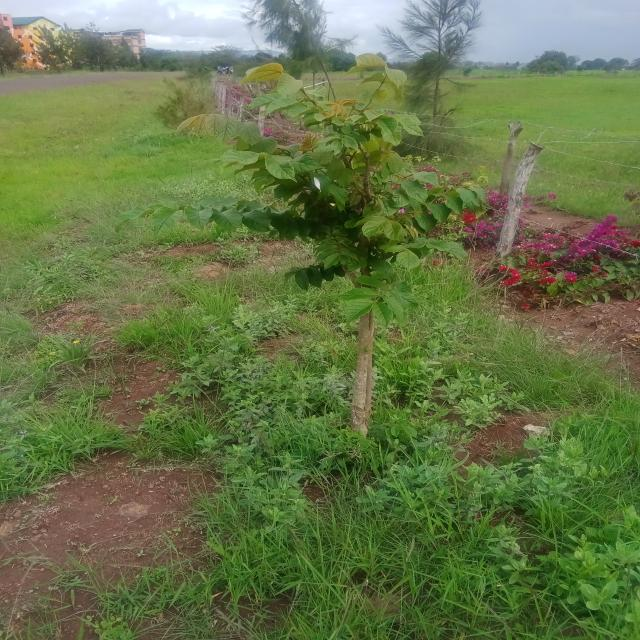Polyscias Kikuyensis: (114, 54, 493, 432)
